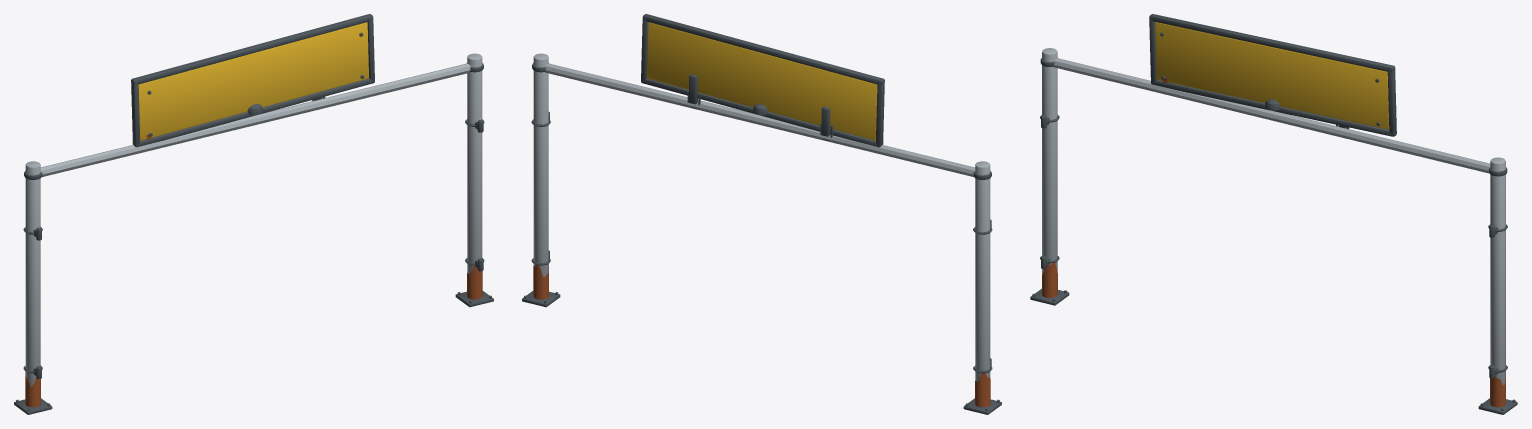
The model's file is fence_gate.glb.
The picture shows the model from 3 angles, left to right: view 1: azimuth 30°, elevation 25°; view 2: azimuth 150°, elevation 25°; view 3: azimuth 330°, elevation 25°; orthographic projection.
Visible parts, largest first — view 1: Gate; view 2: Gate; view 3: Gate.
Part boxes in pixels (x1,y1,x2,y2): Gate: (14,14,493,414); Gate: (522,14,1001,414); Gate: (1030,14,1517,414).
Size of the model in its own units: 5.28 by 3.36 by 0.2836.
